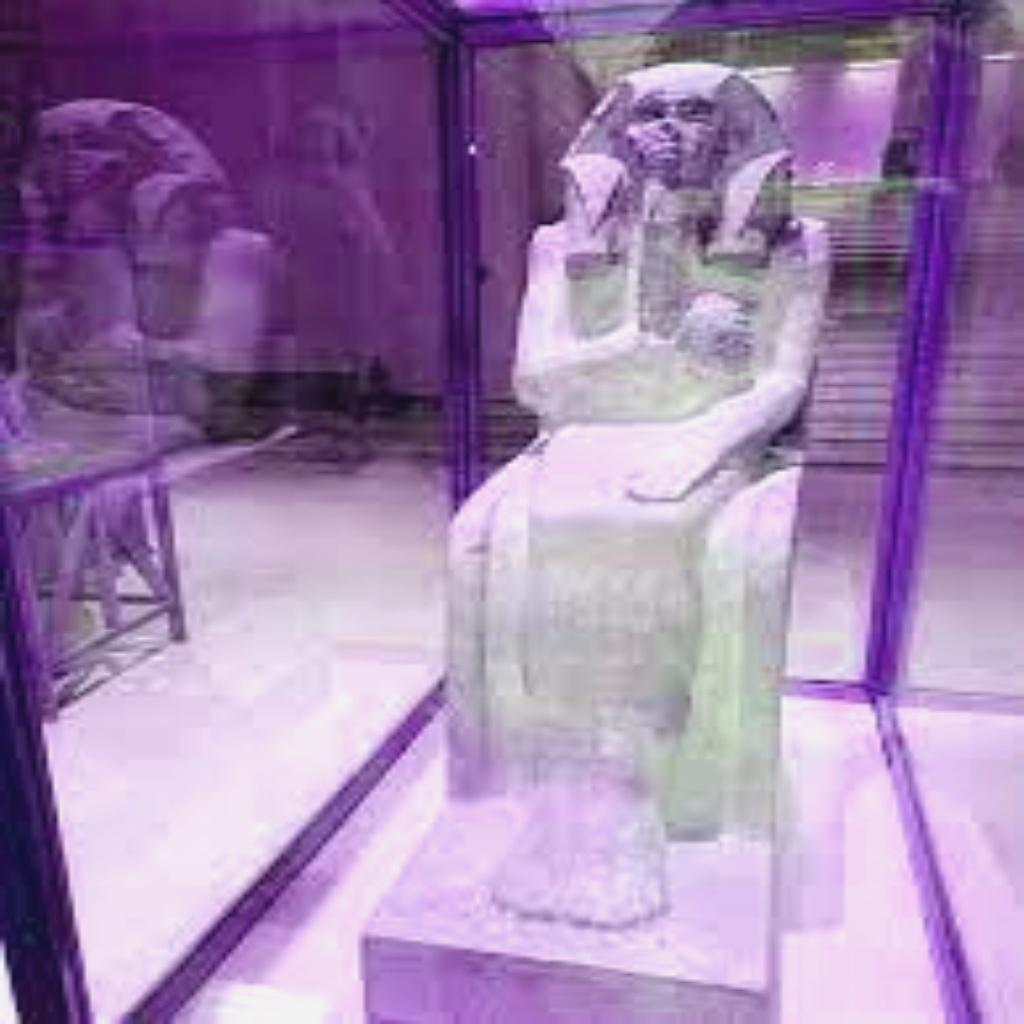Statue of King Zoser: (428, 55, 840, 929)
